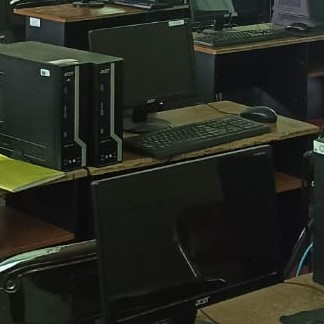monitor: (87, 18, 202, 126), (189, 0, 272, 28)
